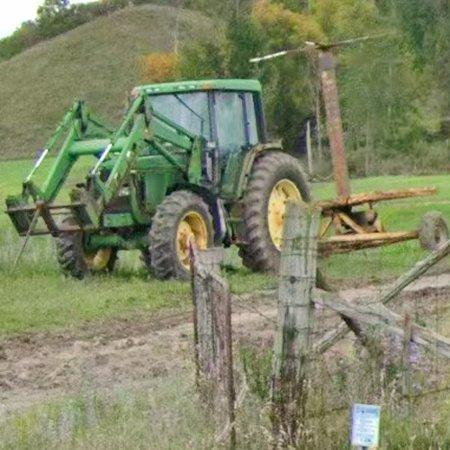tractors: (6, 79, 310, 279)
